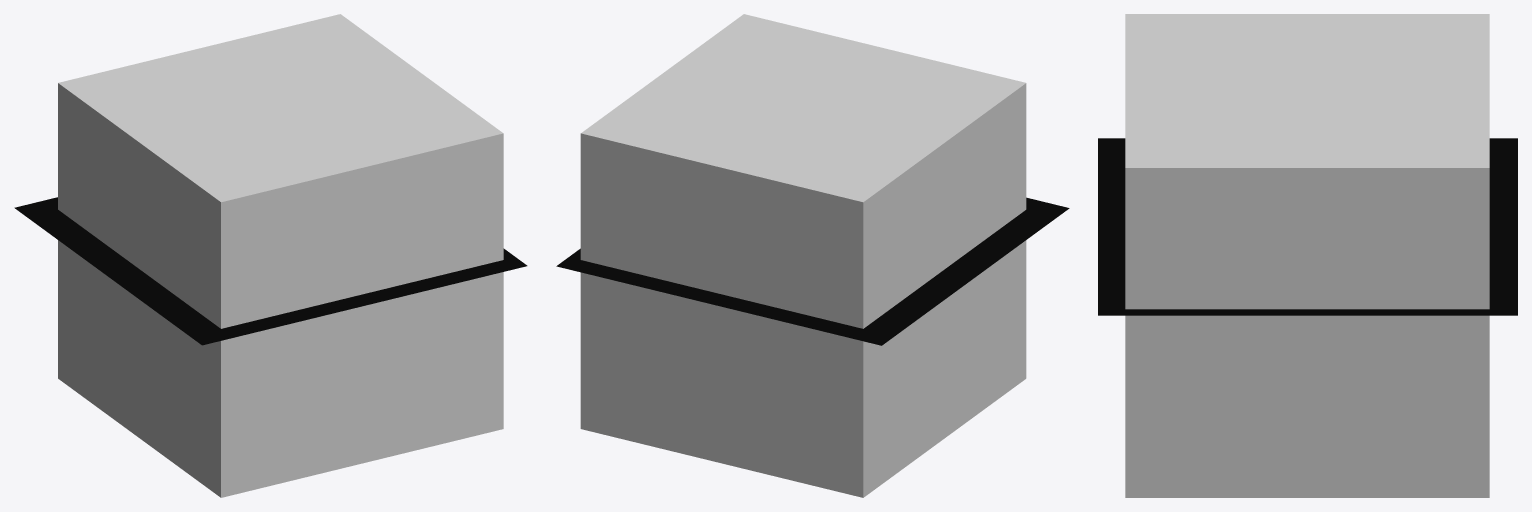
The model's file is level9.glb.
The picture shows the model from 3 angles, left to right: view 1: azimuth 30°, elevation 25°; view 2: azimuth 150°, elevation 25°; view 3: azimuth 270°, elevation 25°; orthographic projection. The views are drawn at different scales.
Parts seen in each view (by area): view 1: arx_zone__check_out_arx-convert, Plane; view 2: arx_zone__check_out_arx-convert, Plane; view 3: arx_zone__check_out_arx-convert, Plane.
Boxes of the visible parts, x1=… form: arx_zone__check_out_arx-convert: x1=58, y1=14, x2=503, y2=497; Plane: x1=14, y1=197, x2=527, y2=345; arx_zone__check_out_arx-convert: x1=580, y1=14, x2=1026, y2=497; Plane: x1=556, y1=197, x2=1069, y2=345; arx_zone__check_out_arx-convert: x1=1125, y1=14, x2=1489, y2=497; Plane: x1=1098, y1=138, x2=1517, y2=315.
Size of the model in its own units: 1 by 0.8675 by 1.
Materials: 1 (1 with a texture image).
